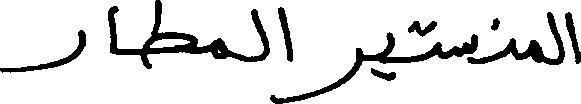X: (0, 25, 85, 77), (143, 0, 196, 73), (313, 43, 363, 101), (279, 2, 292, 103), (251, 4, 269, 66), (547, 7, 564, 69), (381, 27, 396, 85), (566, 7, 580, 68), (456, 29, 476, 68), (429, 16, 440, 62), (211, 33, 227, 63), (530, 35, 542, 67), (109, 1, 115, 58), (507, 33, 516, 64)
